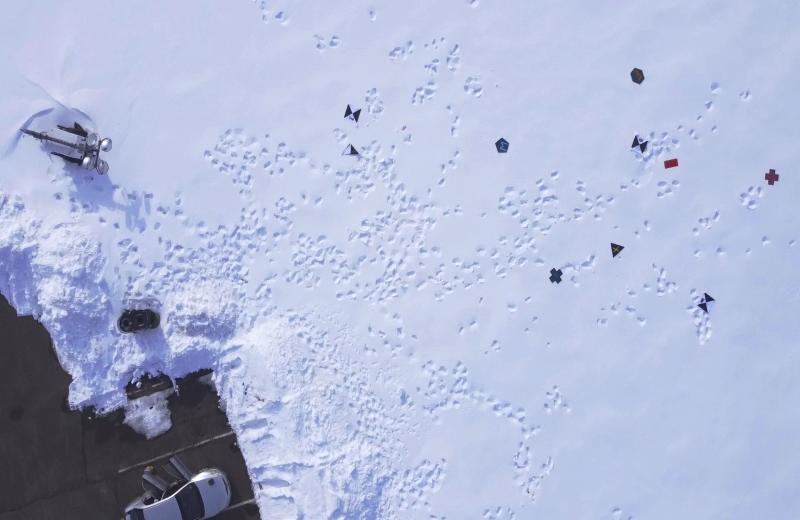Cross: (548, 268, 565, 286), (764, 168, 780, 186)
Hexagon: (629, 66, 645, 85)
Pentagon: (493, 135, 511, 156)
Rectangle: (663, 158, 680, 171)
Triangle: (609, 240, 625, 261)
